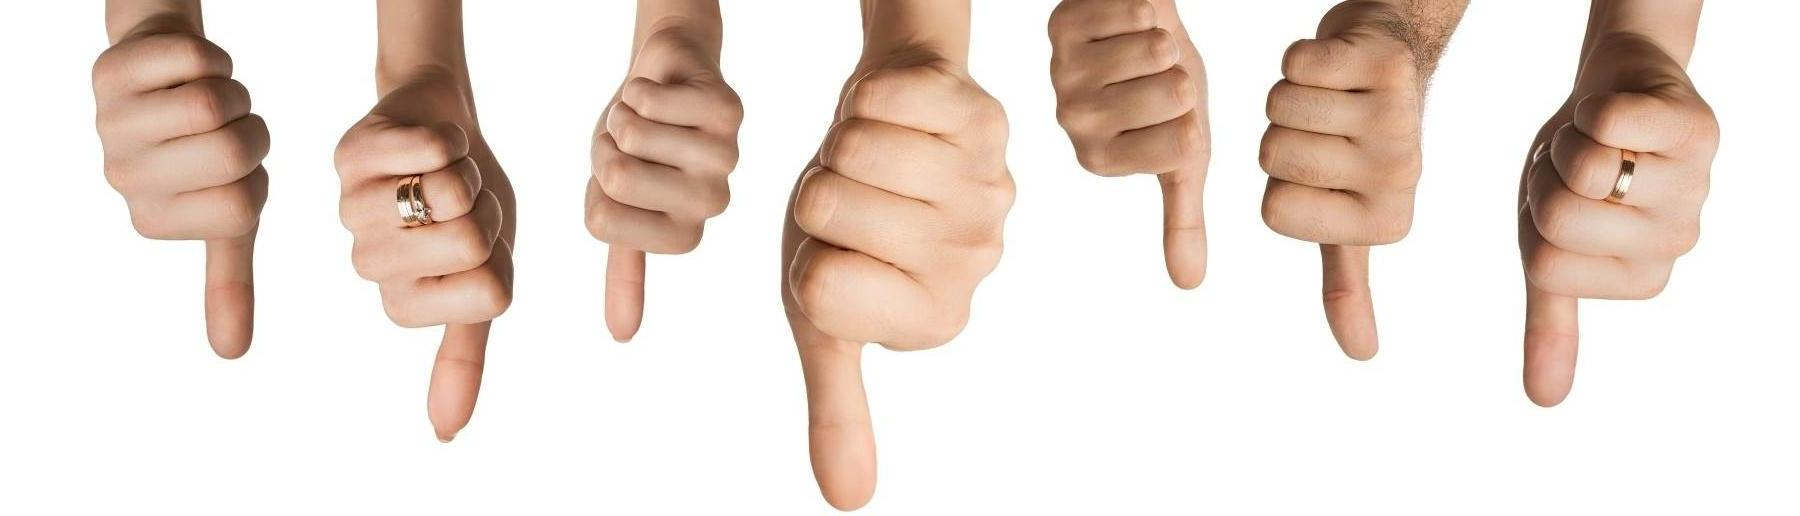thumbsdown: (775, 43, 1022, 510), (1514, 44, 1720, 413), (328, 84, 525, 447), (83, 21, 276, 362), (1252, 23, 1430, 365), (579, 41, 746, 348), (1043, 0, 1215, 293)
